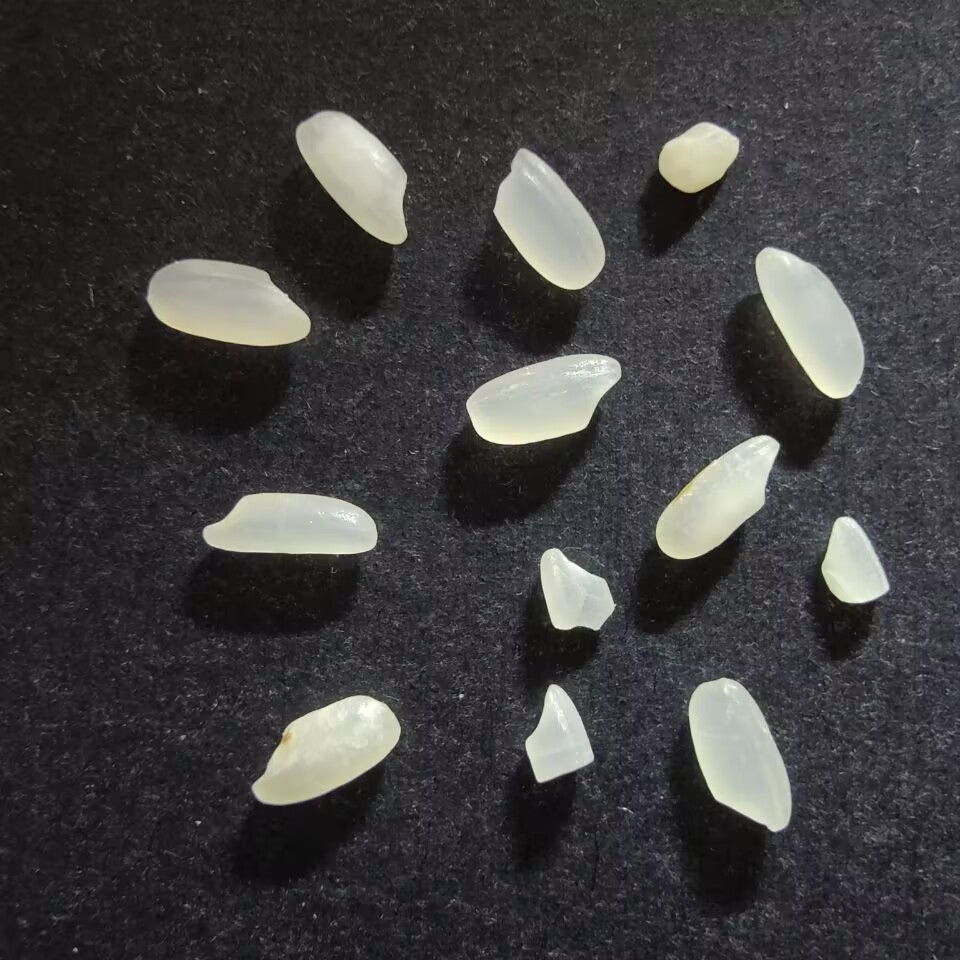broken: (521, 681, 597, 784), (819, 512, 892, 605), (539, 547, 617, 632), (656, 119, 741, 196)
rice: (753, 245, 866, 401), (249, 693, 402, 806), (490, 144, 606, 293), (686, 676, 794, 833), (653, 431, 781, 561), (293, 109, 410, 247), (144, 256, 312, 350), (463, 350, 622, 447), (199, 490, 379, 556)
